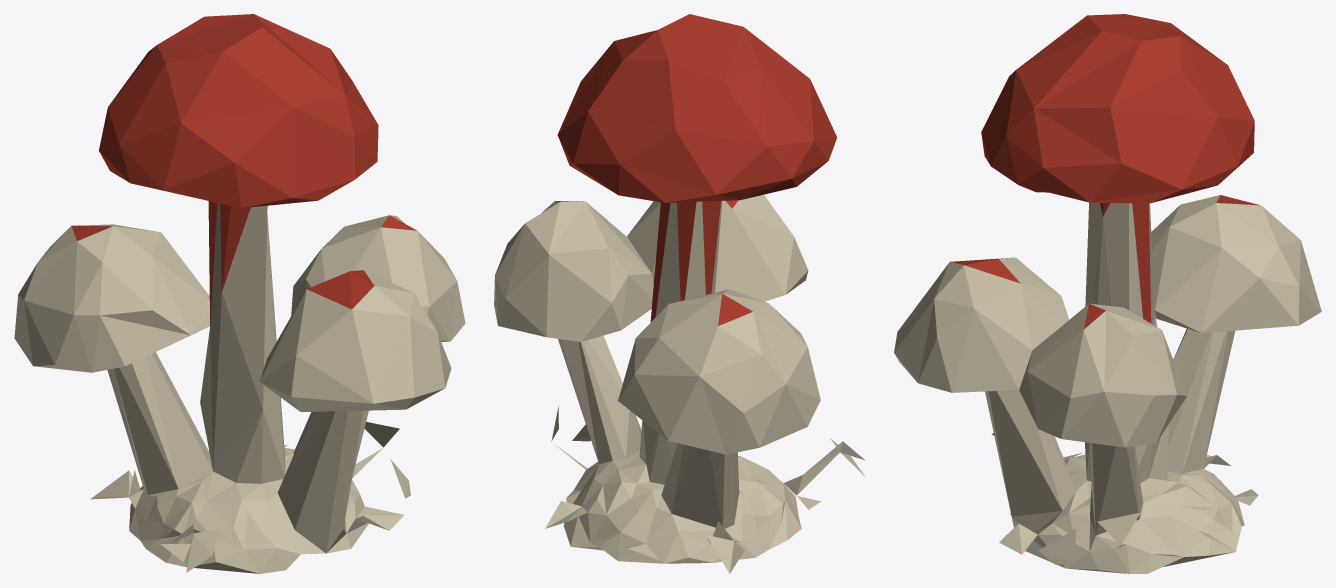
Rendered from mushroom-1.glb.
The picture shows the model from 3 angles, left to right: view 1: azimuth 30°, elevation 25°; view 2: azimuth 150°, elevation 25°; view 3: azimuth 270°, elevation 25°; orthographic projection.
Parts seen in each view (by area): view 1: output_unwrapped; view 2: output_unwrapped; view 3: output_unwrapped.
Part boxes in pixels (x1,y1,x2,y2): output_unwrapped: [14, 14, 465, 573]; output_unwrapped: [494, 14, 865, 573]; output_unwrapped: [894, 14, 1321, 573].
Size of the model in its own units: 0.525 by 0.7 by 0.5475.
